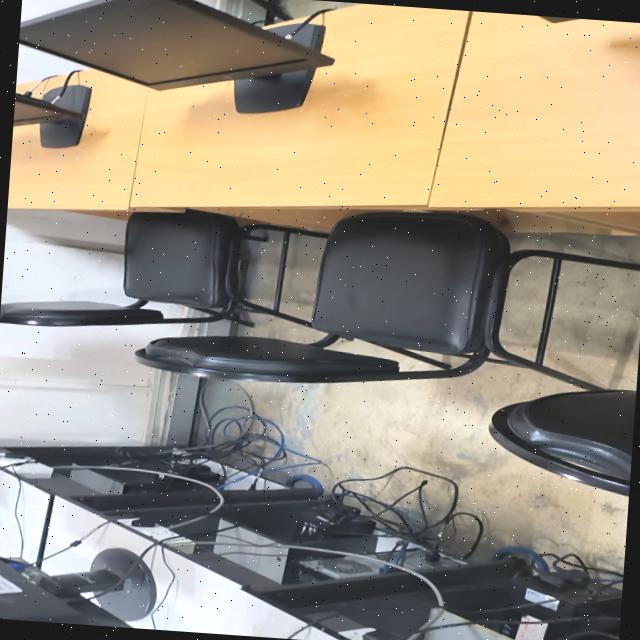Chair: (155, 196, 500, 396), (0, 197, 247, 339), (485, 375, 636, 495)
Cpu: (300, 540, 472, 590)
Monitor: (15, 0, 330, 116), (0, 545, 151, 629), (12, 80, 92, 146)
